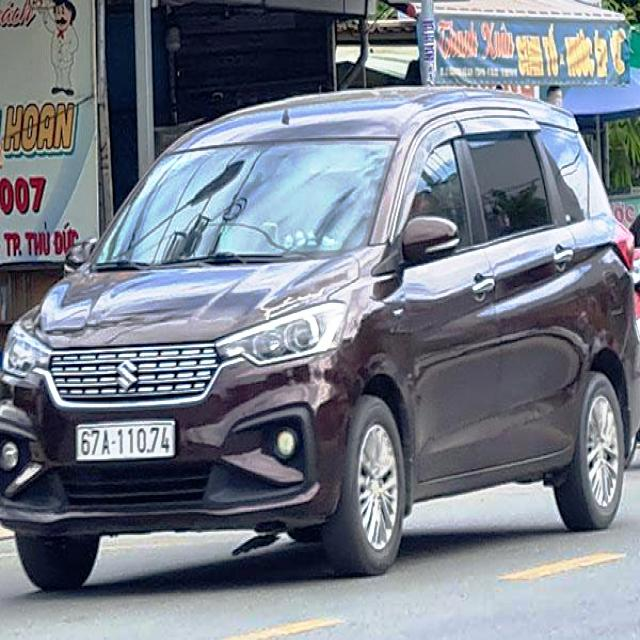license_plate: (80, 422, 177, 466)
